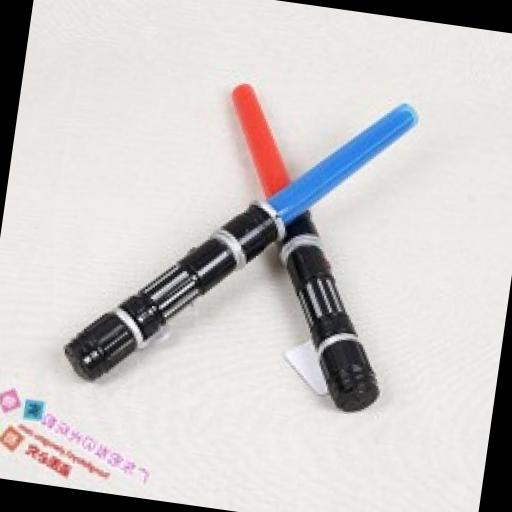lightsaber: (60, 62, 419, 418)
sith saber: (192, 82, 422, 416)
